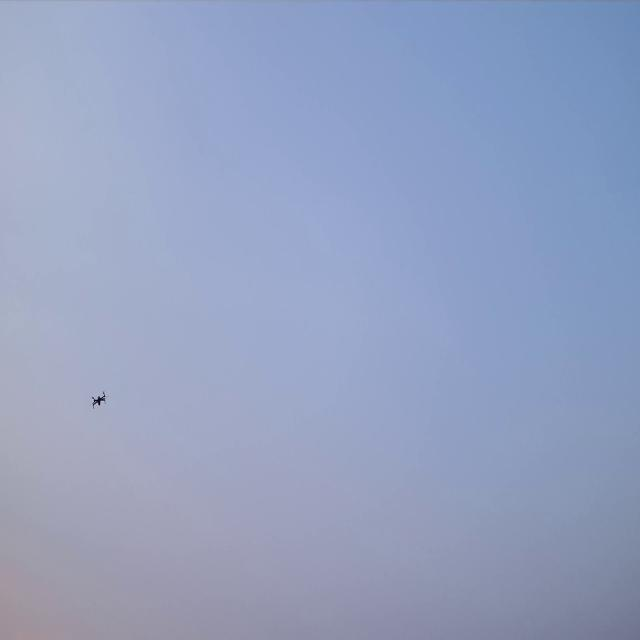UAV: (90, 390, 110, 410)
